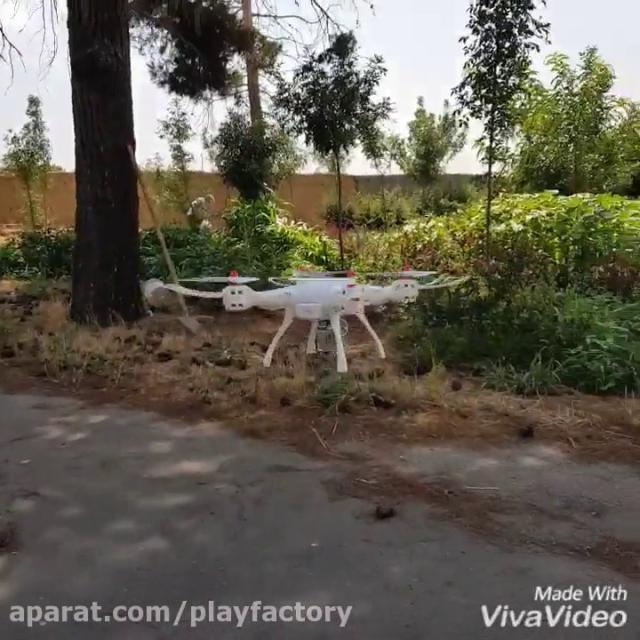drone: (161, 259, 471, 373)
